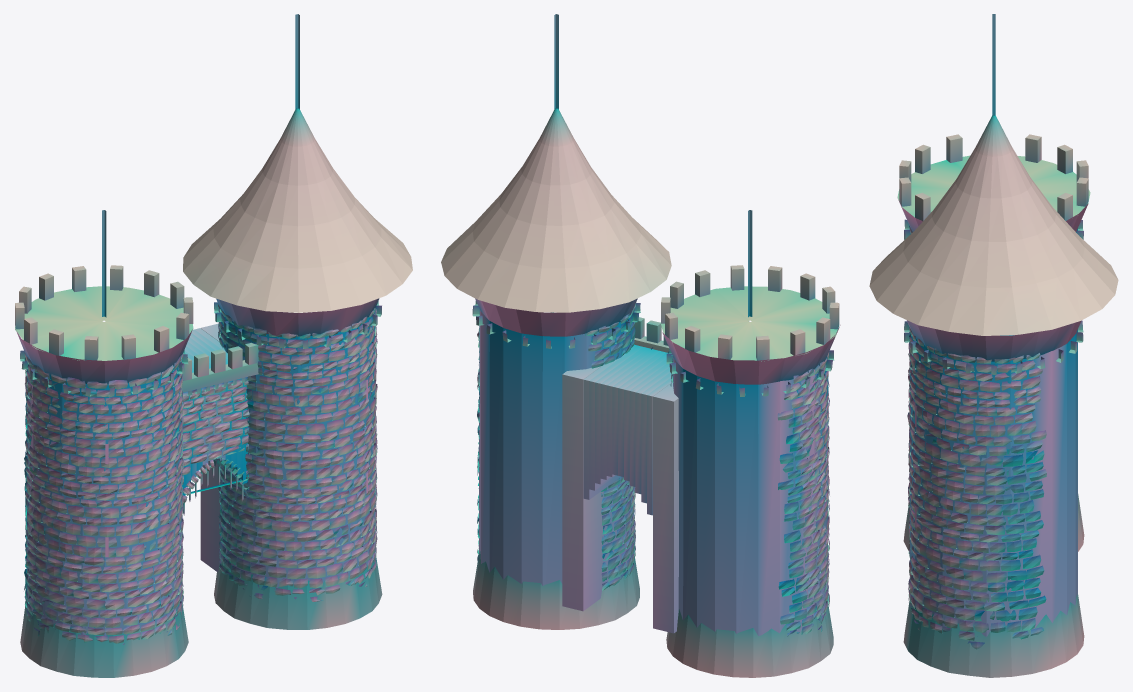
Rendered from town_gate.glb.
The picture shows the model from 3 angles, left to right: view 1: azimuth 30°, elevation 25°; view 2: azimuth 150°, elevation 25°; view 3: azimuth 270°, elevation 25°; orthographic projection. The views are drawn at different scales.
Parts seen in each view (by area): view 1: Vael gatehouse; view 2: Vael gatehouse; view 3: Vael gatehouse.
Part boxes in pixels (x1,y1,x2,y2): Vael gatehouse: [15, 14, 412, 677]; Vael gatehouse: [441, 14, 840, 677]; Vael gatehouse: [869, 14, 1118, 677].
Bounding box in the file's own units: 29.28 × 43.55 × 15.72.
